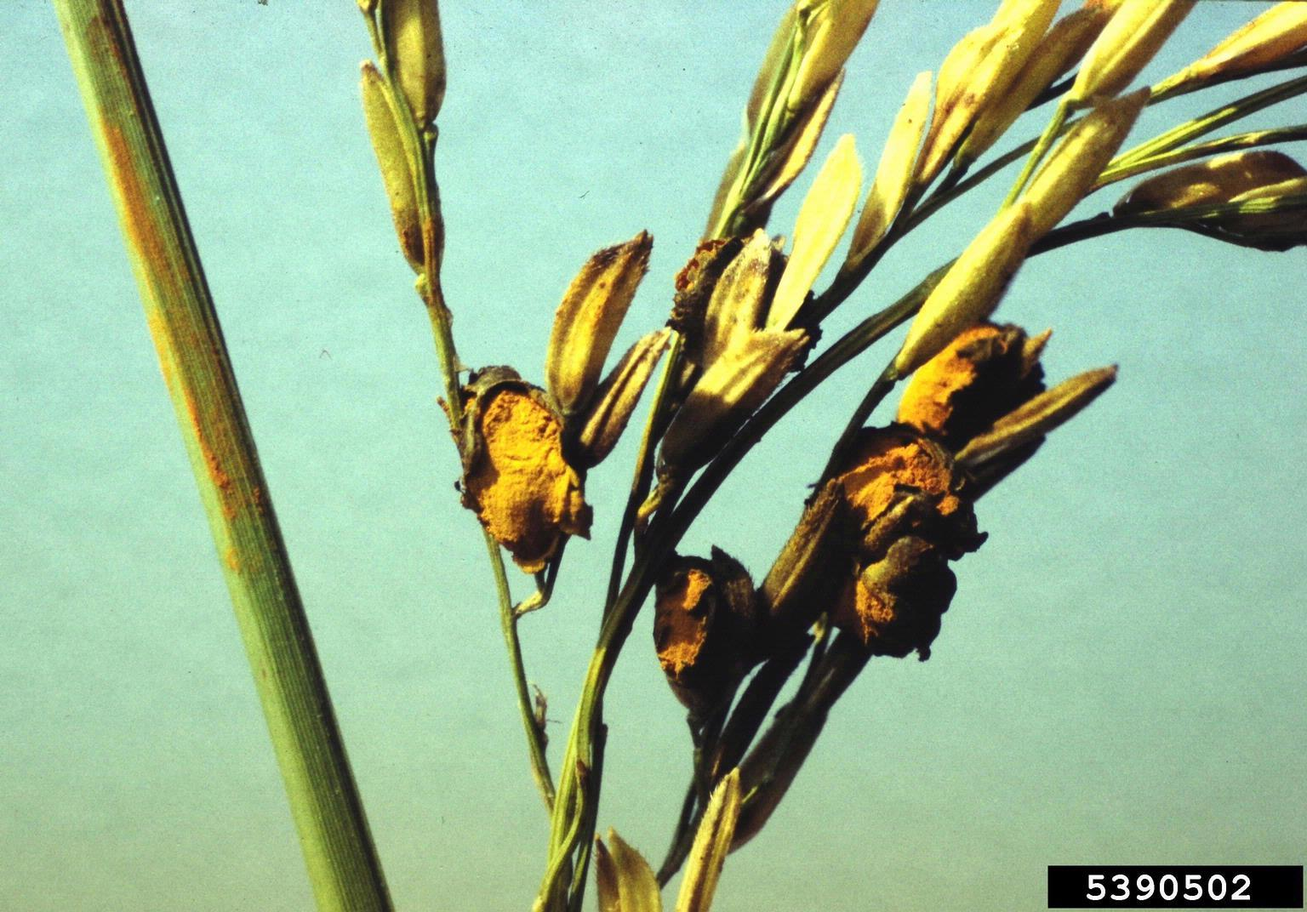False Smut: (817, 318, 1061, 678), (442, 244, 661, 618), (655, 516, 817, 760), (672, 213, 848, 428)
